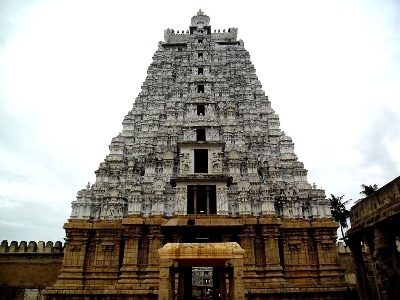gopura: (75, 25, 342, 221)
